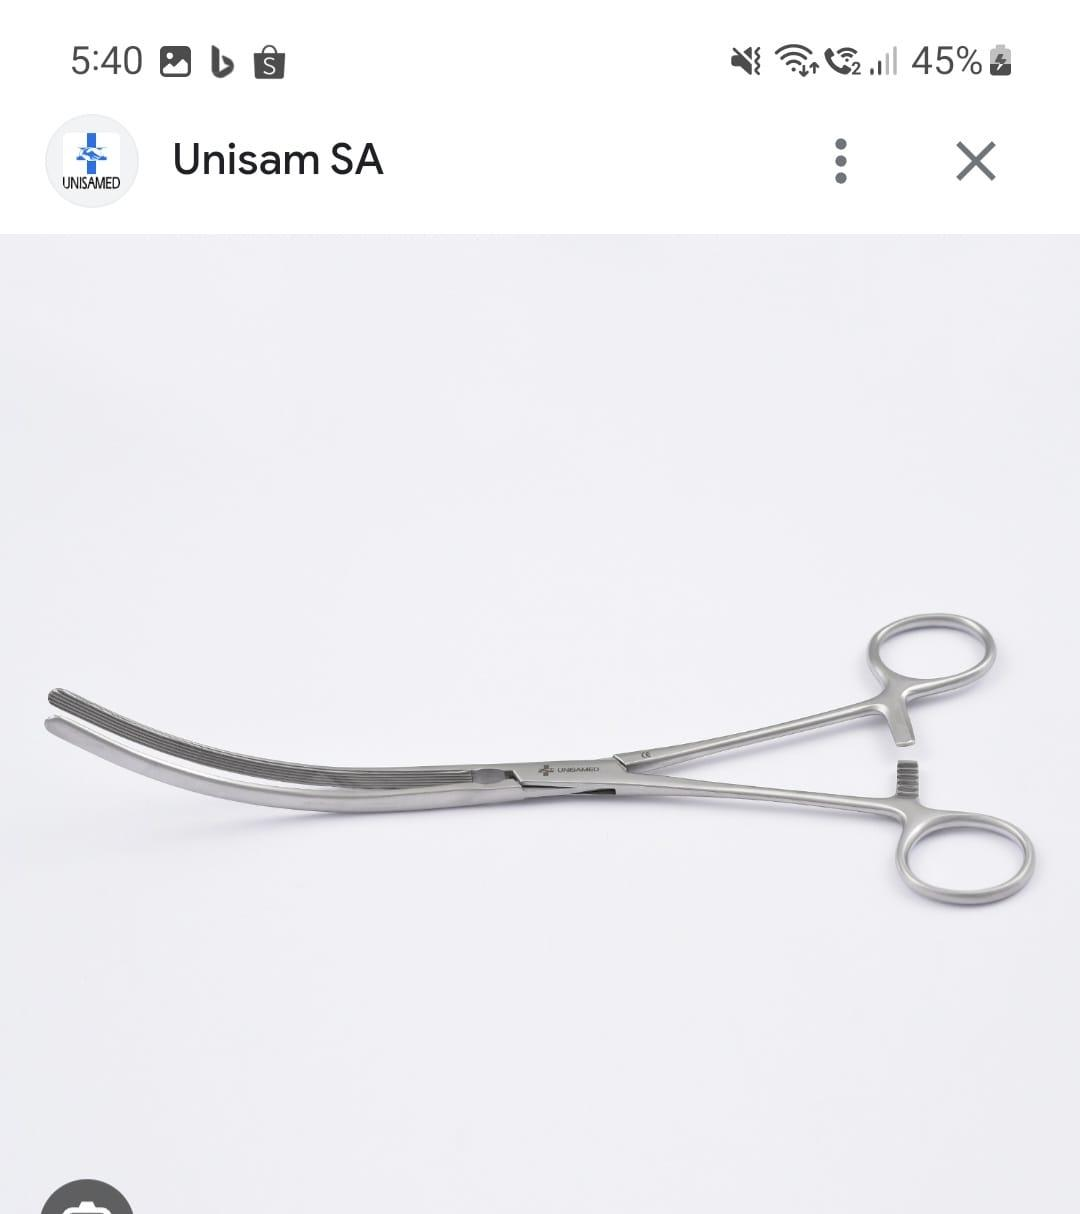Doyel Instestinal Forceps: (38, 583, 1038, 934)
